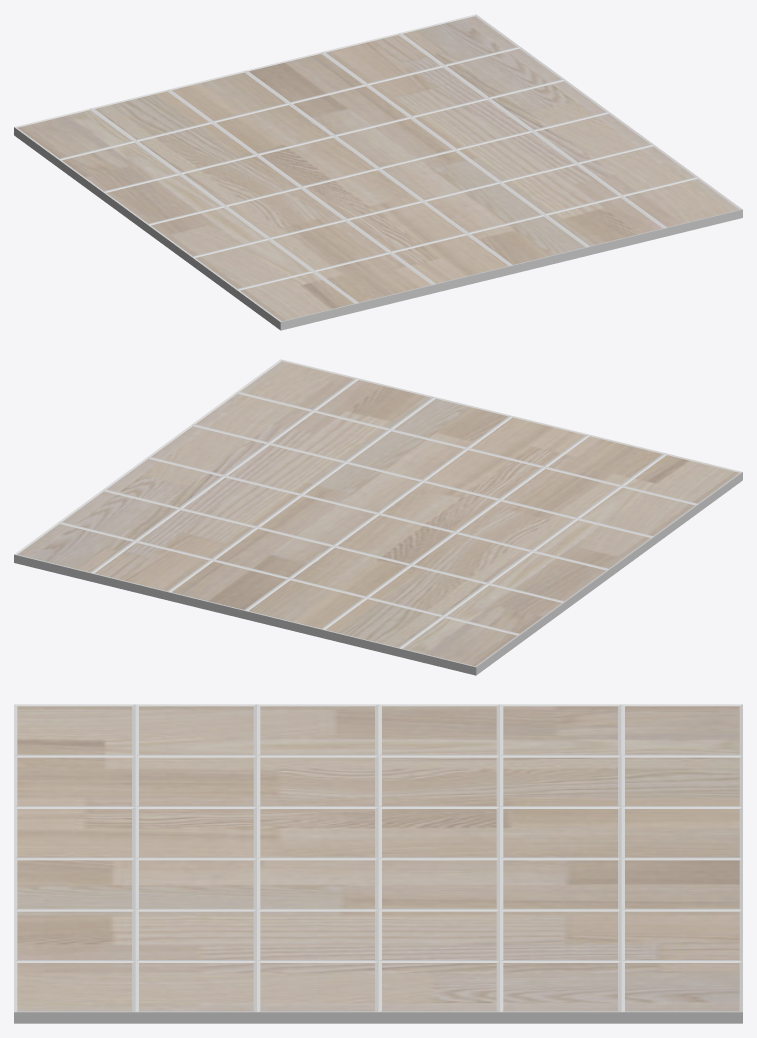
File: Ceramica_Madera.gltf
3 views of the same model, one above another, from view 1: azimuth 30°, elevation 25°; view 2: azimuth 150°, elevation 25°; view 3: azimuth 270°, elevation 25° (orthographic). The views are drawn at different scales.
Parts seen in each view (by area): view 1: Cube.001, Cube; view 2: Cube.001, Cube; view 3: Cube.001, Cube.
Boxes of the visible parts, <box> form: Cube.001: <box>17,16,738,320</box>; Cube: <box>14,14,742,330</box>; Cube.001: <box>18,361,739,665</box>; Cube: <box>14,359,742,675</box>; Cube.001: <box>17,706,739,1011</box>; Cube: <box>14,704,742,1023</box>.
Bounding box in the file's own units: 4.07 × 0.07 × 4.07.
Materials: 1 (1 with a texture image).
